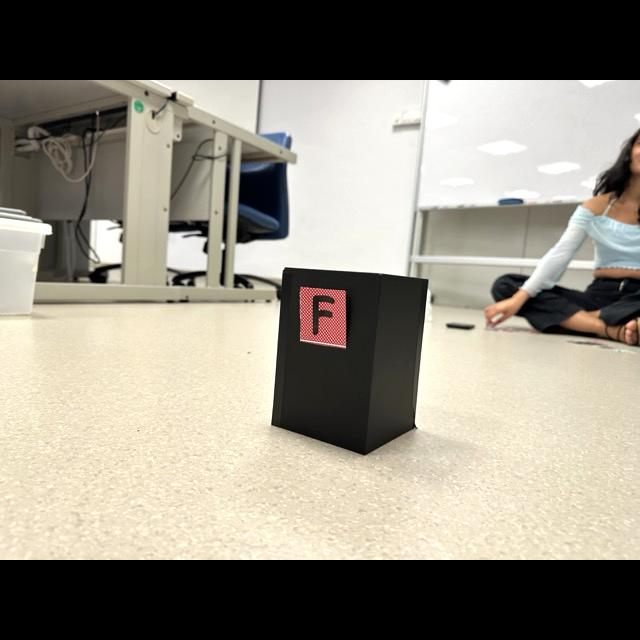F: (312, 296, 336, 335)
